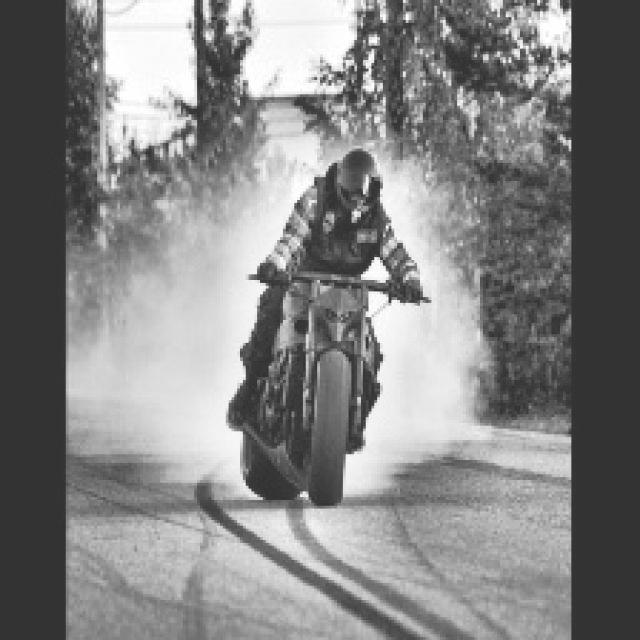Bike: (260, 266, 386, 493)
